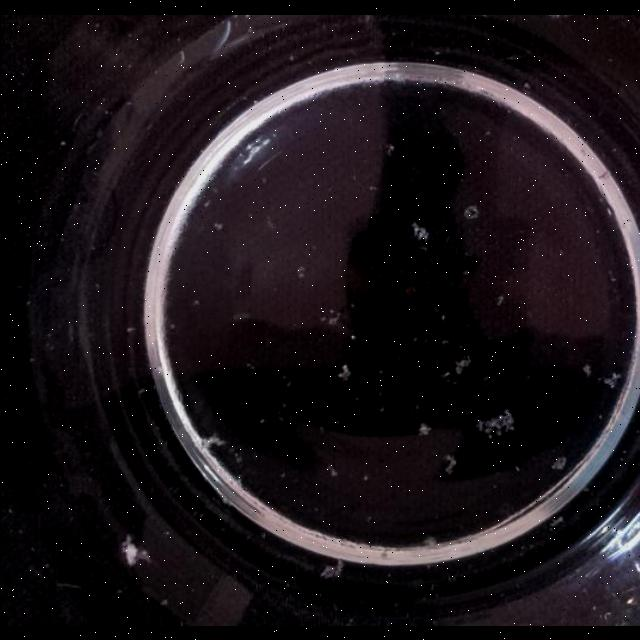Fibre: (474, 409, 516, 439), (198, 432, 226, 451), (318, 558, 342, 580), (452, 356, 471, 376), (601, 372, 621, 390), (442, 453, 456, 472), (337, 364, 351, 382), (550, 457, 566, 471), (464, 206, 478, 220)
microbeads: (121, 536, 142, 566), (417, 424, 431, 436), (264, 218, 276, 230), (581, 364, 591, 378), (494, 294, 504, 306), (326, 465, 336, 477), (296, 266, 306, 278), (384, 144, 394, 156), (136, 386, 146, 396), (213, 222, 223, 230), (190, 299, 200, 307), (125, 326, 135, 334), (368, 185, 378, 192), (360, 474, 368, 482), (202, 200, 210, 208), (440, 338, 448, 346), (168, 323, 175, 331), (484, 130, 491, 138), (439, 314, 445, 322), (59, 141, 66, 147), (6, 508, 12, 514)
